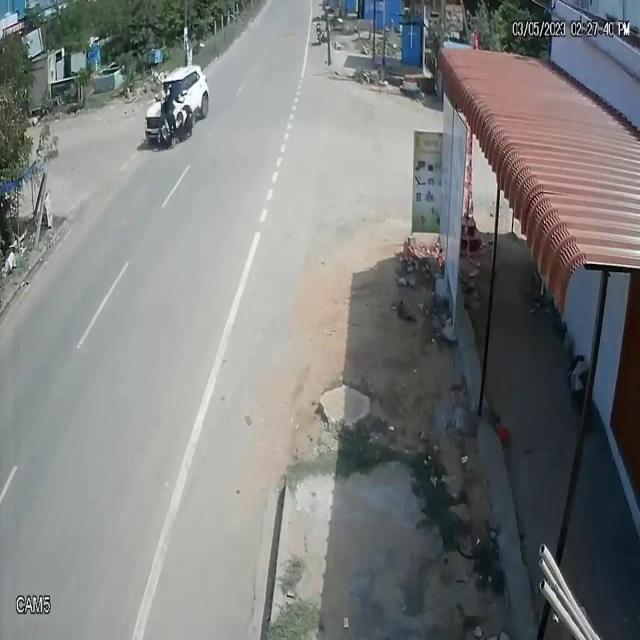accident: (141, 58, 214, 157)
